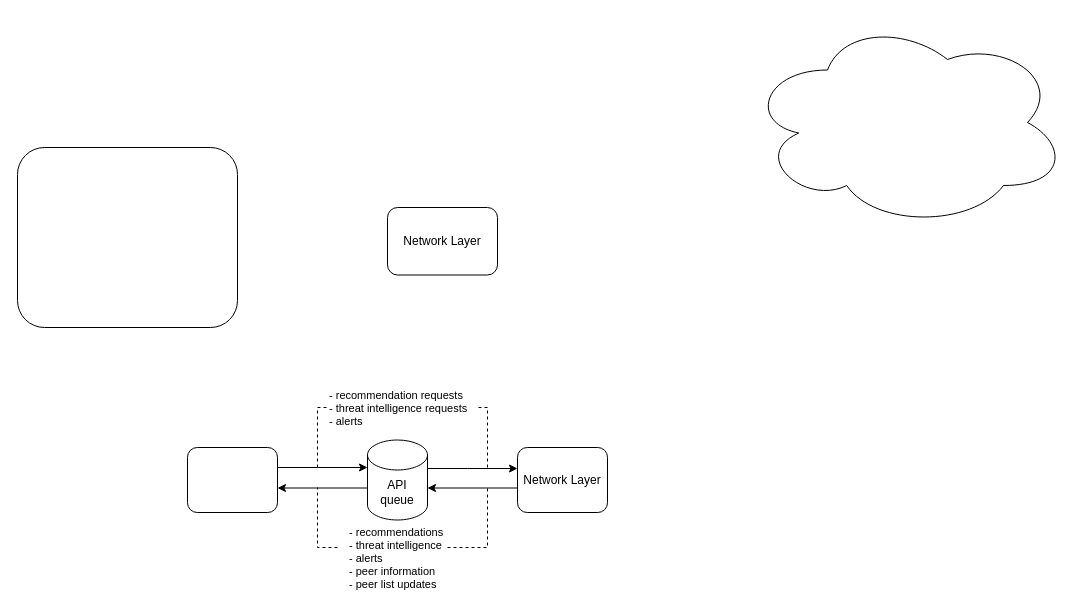
Some shapes in this 1085 by 608 pixel diagram are drawn without their labels. Each missing label, with the centre of its shape:
Fides: pixel 232 479
Slips: pixel 127 237
